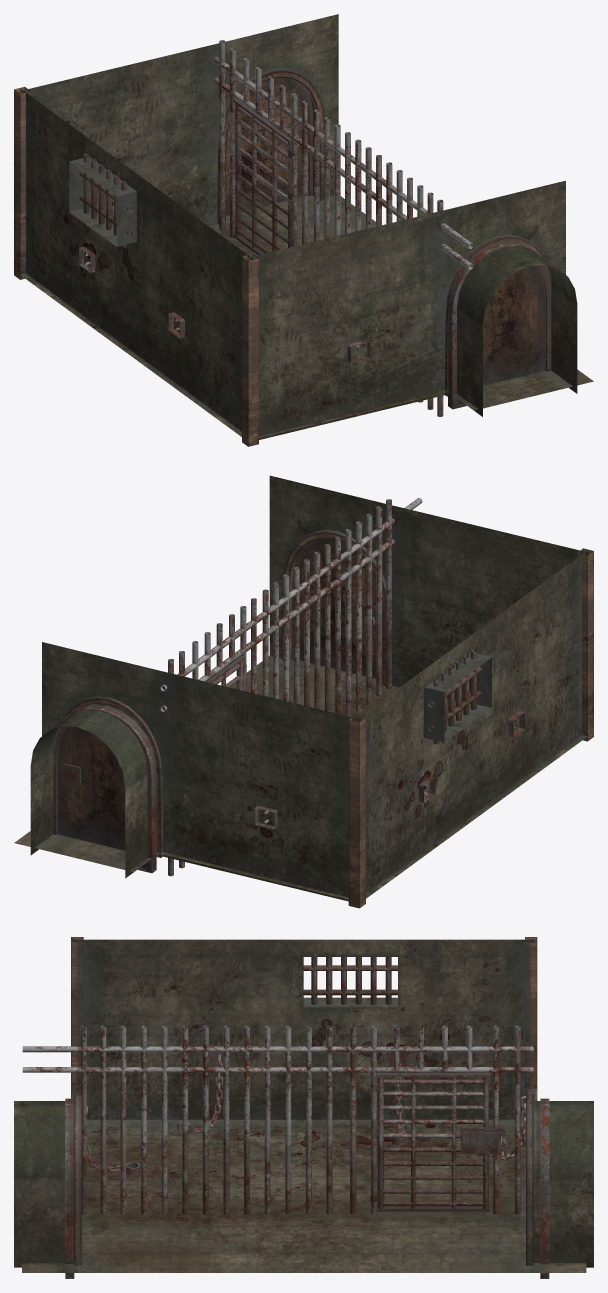
The model's file is castle_dungeon.glb.
3 views of the same model, one above another, from view 1: azimuth 30°, elevation 25°; view 2: azimuth 150°, elevation 25°; view 3: azimuth 270°, elevation 25° (orthographic).
Visible parts, largest first — view 1: Dungeon_Wallz, Bars, pCylinder45, Dungeon_Floor, Gate1, pCylinder44, polySurface55, Chainsmeshthing; view 2: Dungeon_Wallz, Bars, pCylinder44, Dungeon_Floor, pCylinder45, polySurface55, Chainsmeshthing, Gate1; view 3: Dungeon_Wallz, Dungeon_Floor, Bars, Gate1, polySurface55, Chainsmeshthing, pCylinder44, pCylinder45.
Part boxes in pixels (x1,y1,x2,y2): Dungeon_Wallz: (14, 14, 577, 446); Bars: (213, 40, 473, 416); pCylinder45: (448, 241, 551, 409); Dungeon_Floor: (15, 195, 593, 440); Gate1: (228, 99, 297, 254); pCylinder44: (226, 77, 312, 215); polySurface55: (79, 153, 132, 247); Chainsmeshthing: (79, 194, 370, 363); Dungeon_Wallz: (30, 475, 593, 908); Bars: (160, 498, 422, 876); pCylinder44: (53, 705, 156, 873); Dungeon_Floor: (14, 656, 591, 899); pCylinder45: (292, 538, 376, 678); polySurface55: (428, 649, 481, 744); Chainsmeshthing: (255, 634, 524, 829); Gate1: (206, 655, 246, 690); Dungeon_Wallz: (14, 937, 593, 1267); Dungeon_Floor: (22, 1119, 586, 1272); Bars: (22, 1025, 533, 1214); Gate1: (370, 1072, 507, 1211); polySurface55: (303, 957, 397, 1004); Chainsmeshthing: (71, 1052, 536, 1175); pCylinder44: (540, 1098, 549, 1278); pCylinder45: (65, 1098, 74, 1278).
Size of the model in its own units: 4.81 by 2.94 by 7.23.
7 materials, 7 textured.
